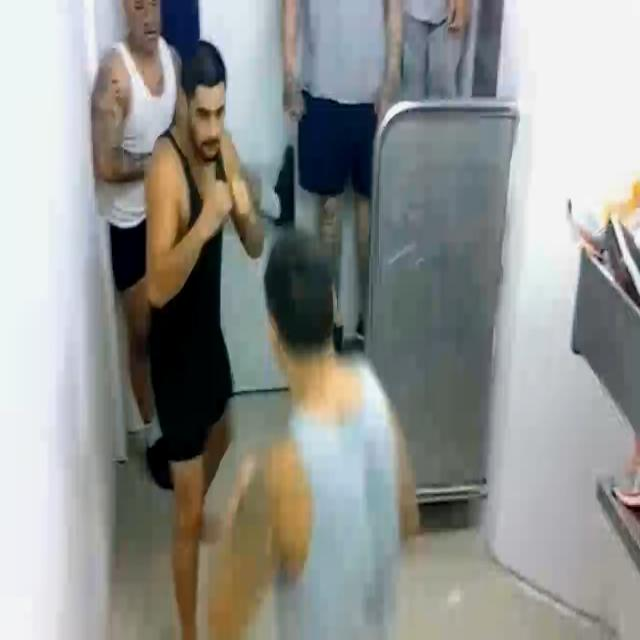fight: (125, 51, 418, 512)
